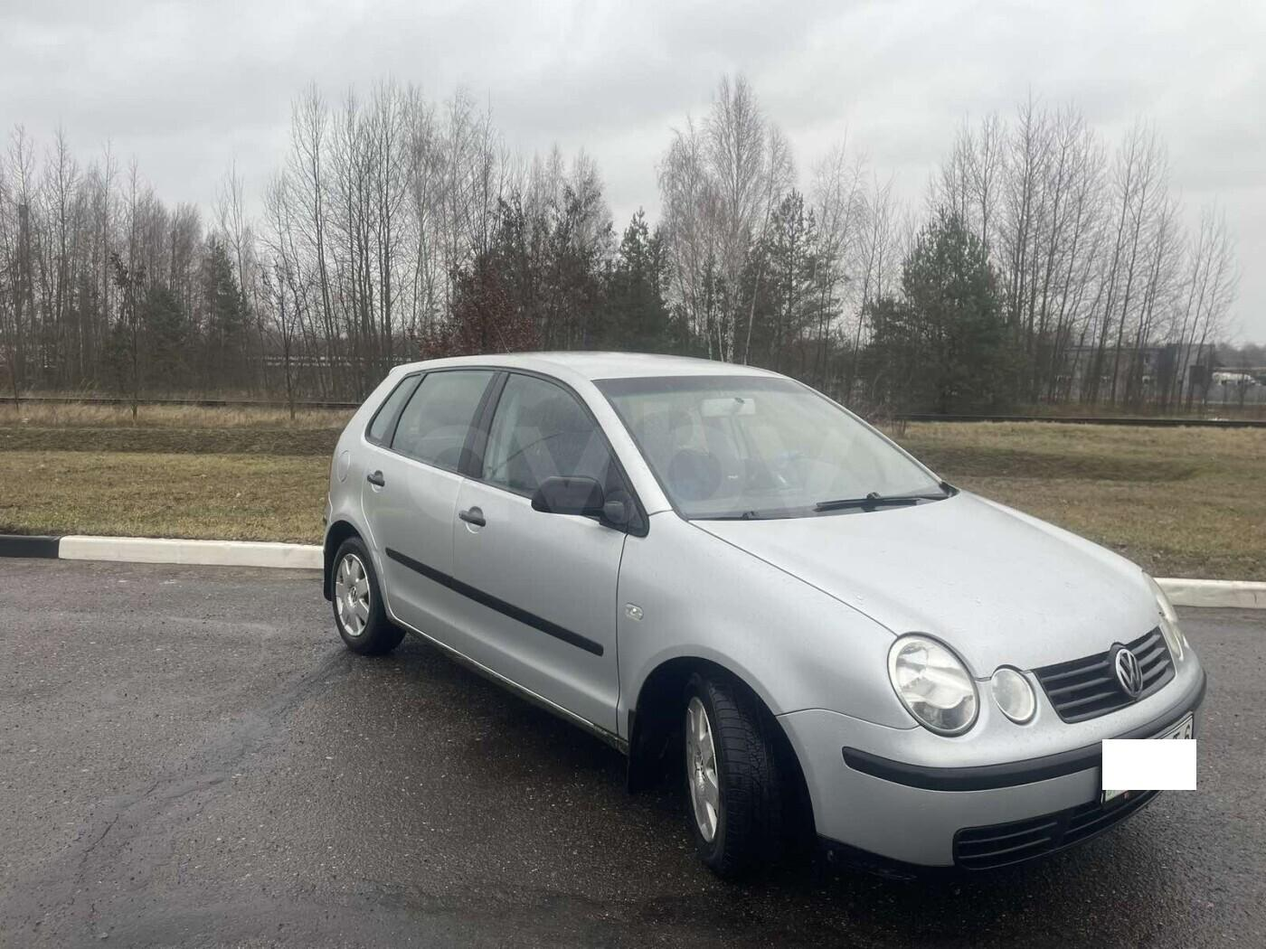Polo_2001-2005: (307, 340, 1193, 889)
